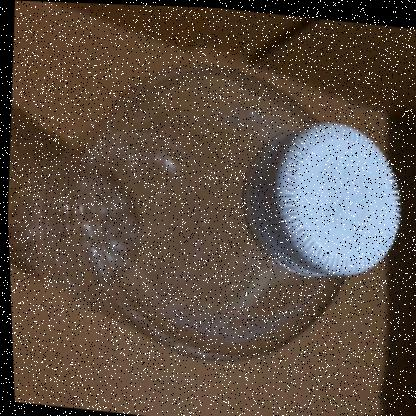bottle cap: (14, 15, 416, 395)
